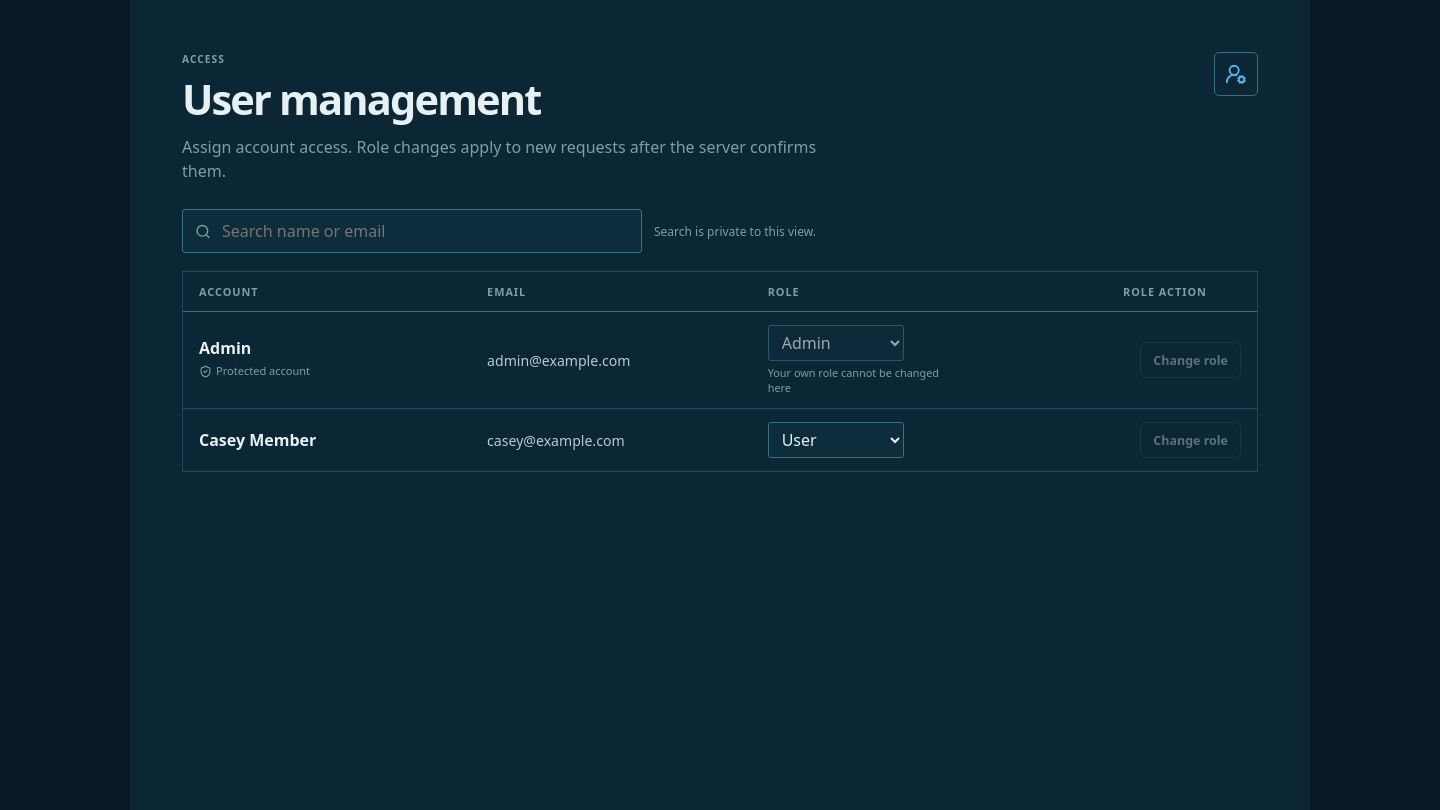
Test: UserManagementView › debounces literal search, avoids intermediate IME requests, and clears immediately
Type "田中" into the field labelled "Search name or email".
click(424, 231); type("田中")  # box [220,211,629,251]
Wait 900 ms
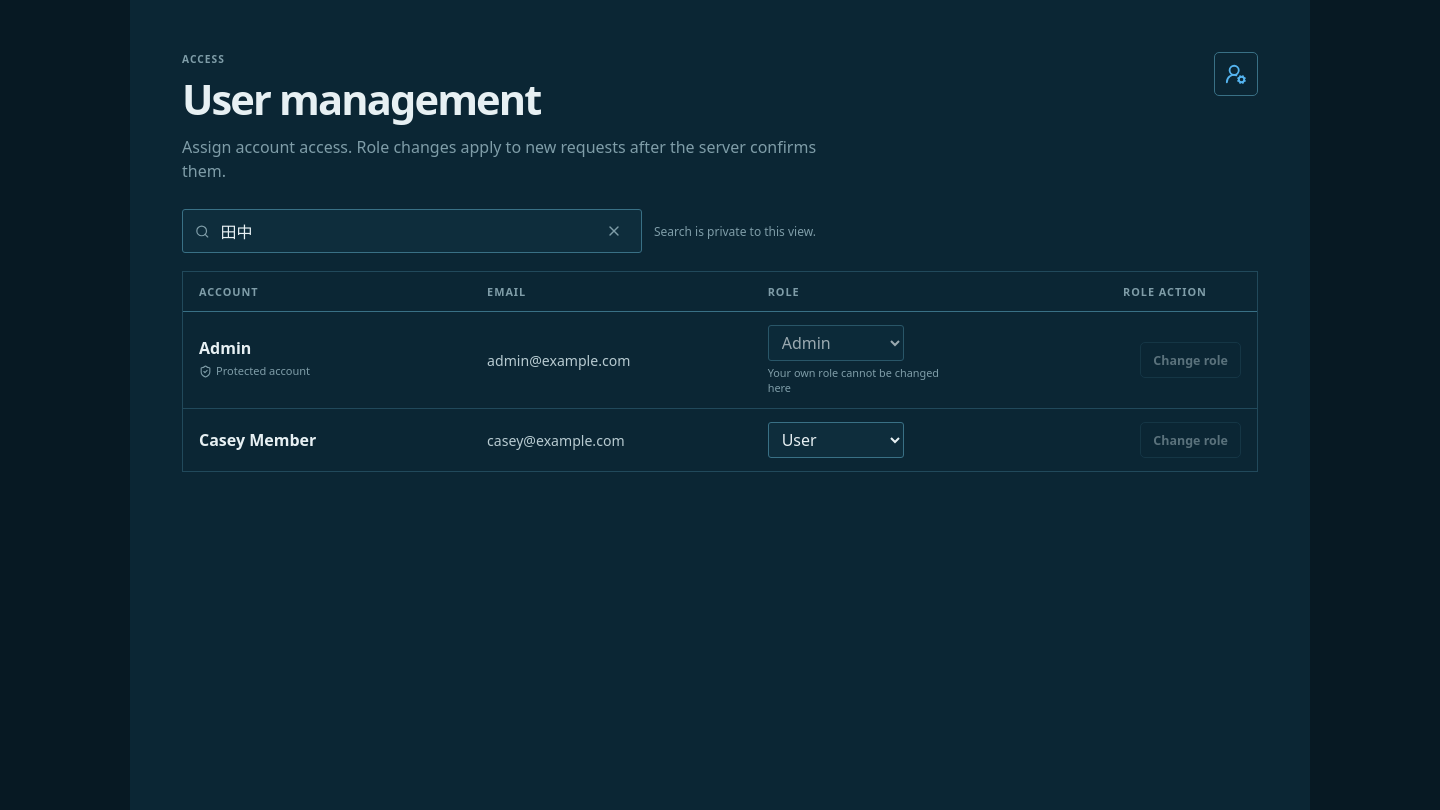
Click the button named "Clear user search".
click(614, 231)  # box [599,216,629,246]
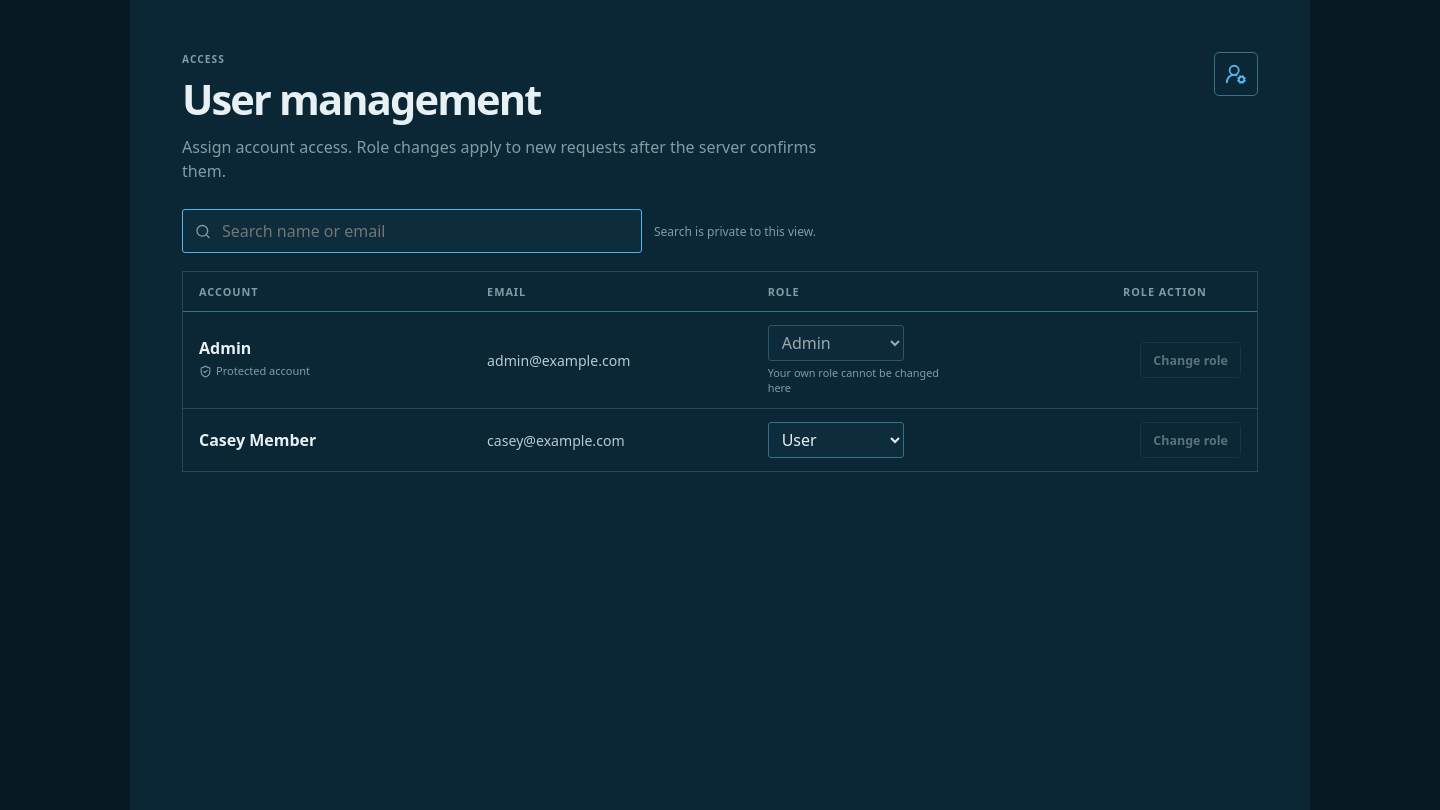
Result: the field labelled "Search name or email" is empty at [220,211,629,251]
